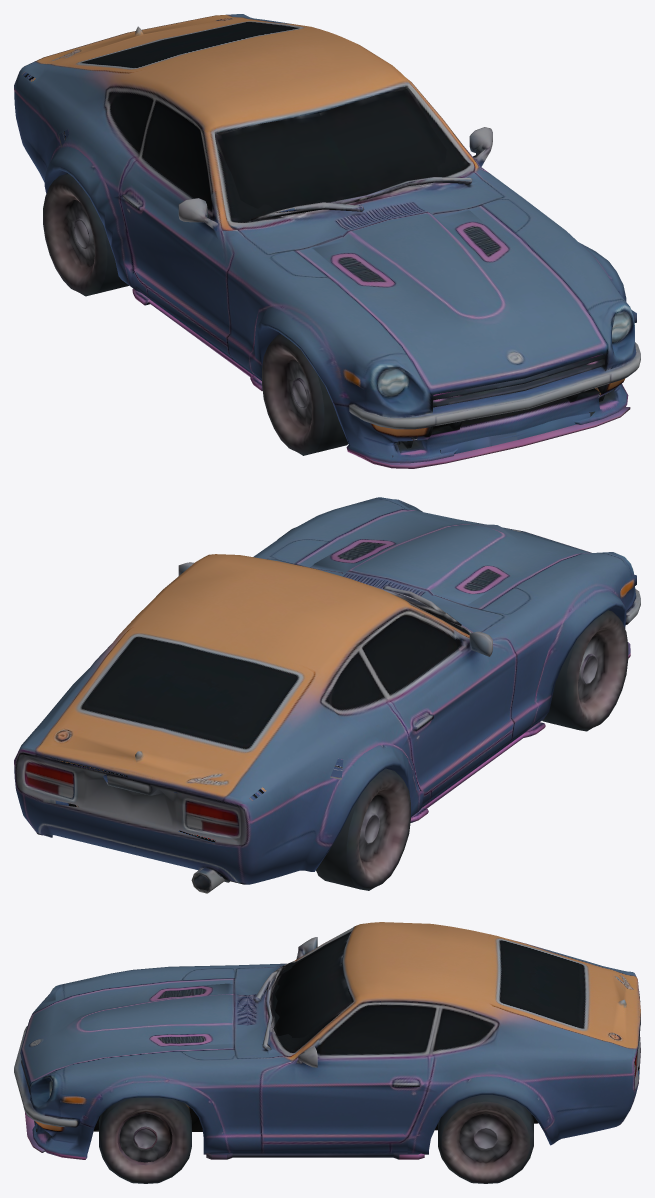
Rendered from mbim1.fbx.
The picture shows the model from 3 angles, top to bottom: view 1: azimuth 30°, elevation 25°; view 2: azimuth 150°, elevation 25°; view 3: azimuth 270°, elevation 25°; orthographic projection. The views are drawn at different scales.
Parts seen in each view (by area): view 1: body, part_7, bknd, bknb, part_11; view 2: body, bknb, bknd; view 3: body, bkrb, bkrd, part_7, part_5.
Part boxes in pixels (x1=…): body: x1=14, y1=14, x2=640, y2=463; part_7: x1=215, y1=87, x2=446, y2=216; bknd: x1=262, y1=334, x2=348, y2=455; bknb: x1=43, y1=173, x2=128, y2=296; part_11: x1=358, y1=407, x2=630, y2=468; body: x1=14, y1=497, x2=640, y2=893; bknb: x1=316, y1=768, x2=410, y2=890; bknd: x1=542, y1=610, x2=628, y2=731; body: x1=14, y1=922, x2=640, y2=1159; bkrb: x1=438, y1=1095, x2=533, y2=1183; bkrd: x1=99, y1=1097, x2=191, y2=1183; part_7: x1=273, y1=931, x2=351, y2=1037; part_5: x1=206, y1=1152, x2=424, y2=1159.
Bounding box in the file's own units: 45.53 × 30.68 × 100.
Materials: 1 (1 with a texture image).
